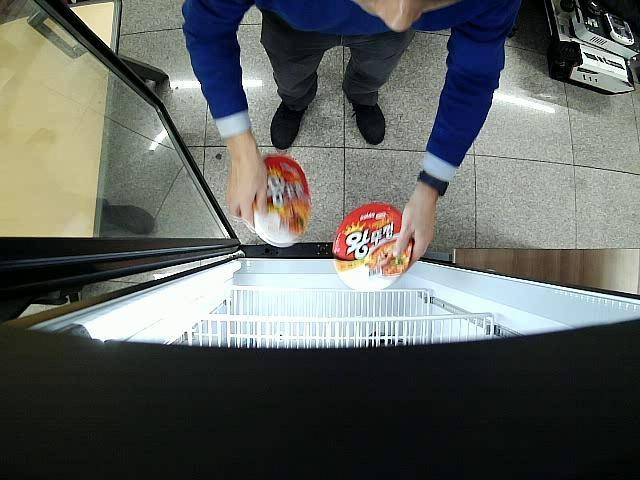10_wangTtukkeong: (332, 202, 412, 292), (254, 154, 312, 248)
